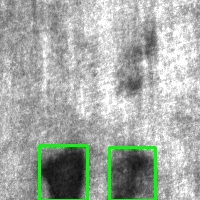patches: (39, 145, 87, 200), (109, 147, 155, 200)
